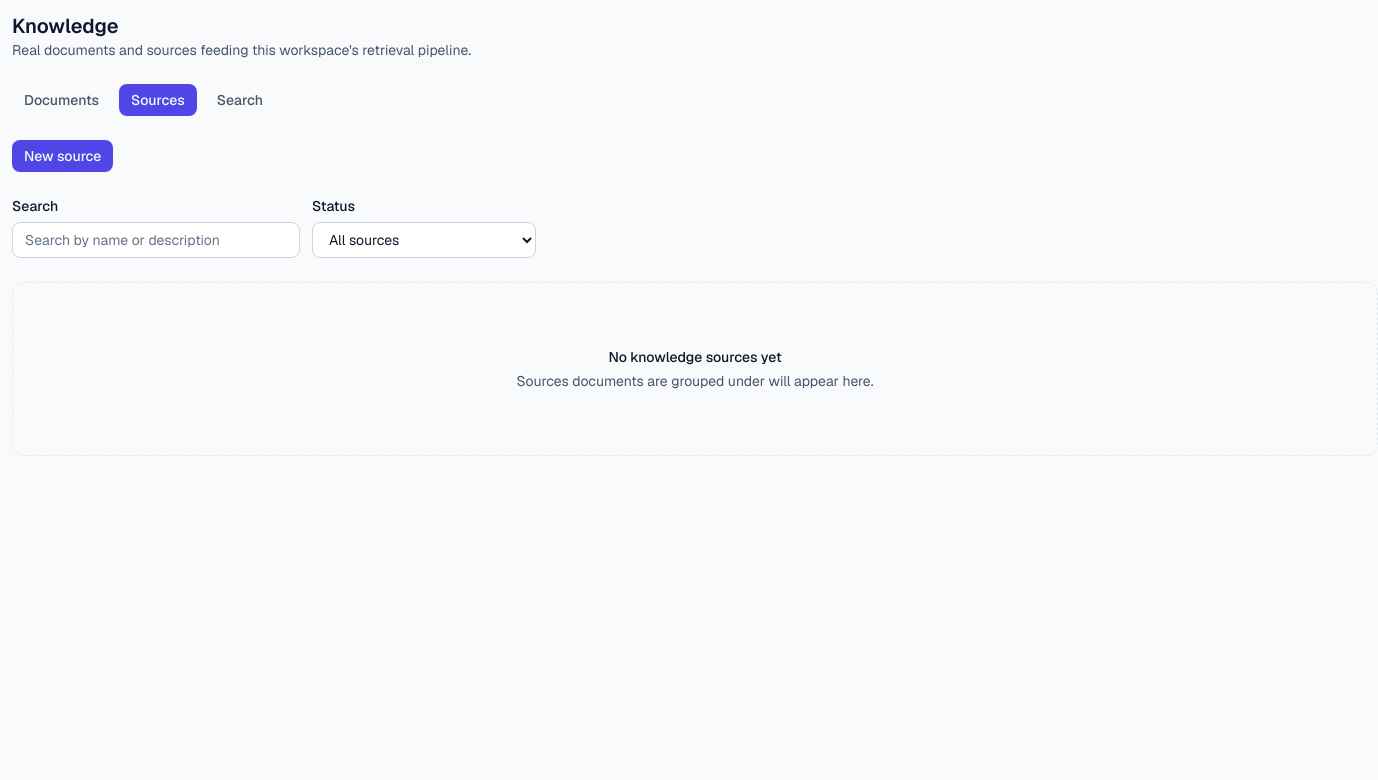
Test: KnowledgeListPage › Sources tab › creates a real source and closes the form on success
Expected: the text "No knowledge sources yet" is shown, x1=608 y1=348 x2=782 y2=366
Click the button "New source" at (63, 156), box x1=12 y1=140 x2=113 y2=172
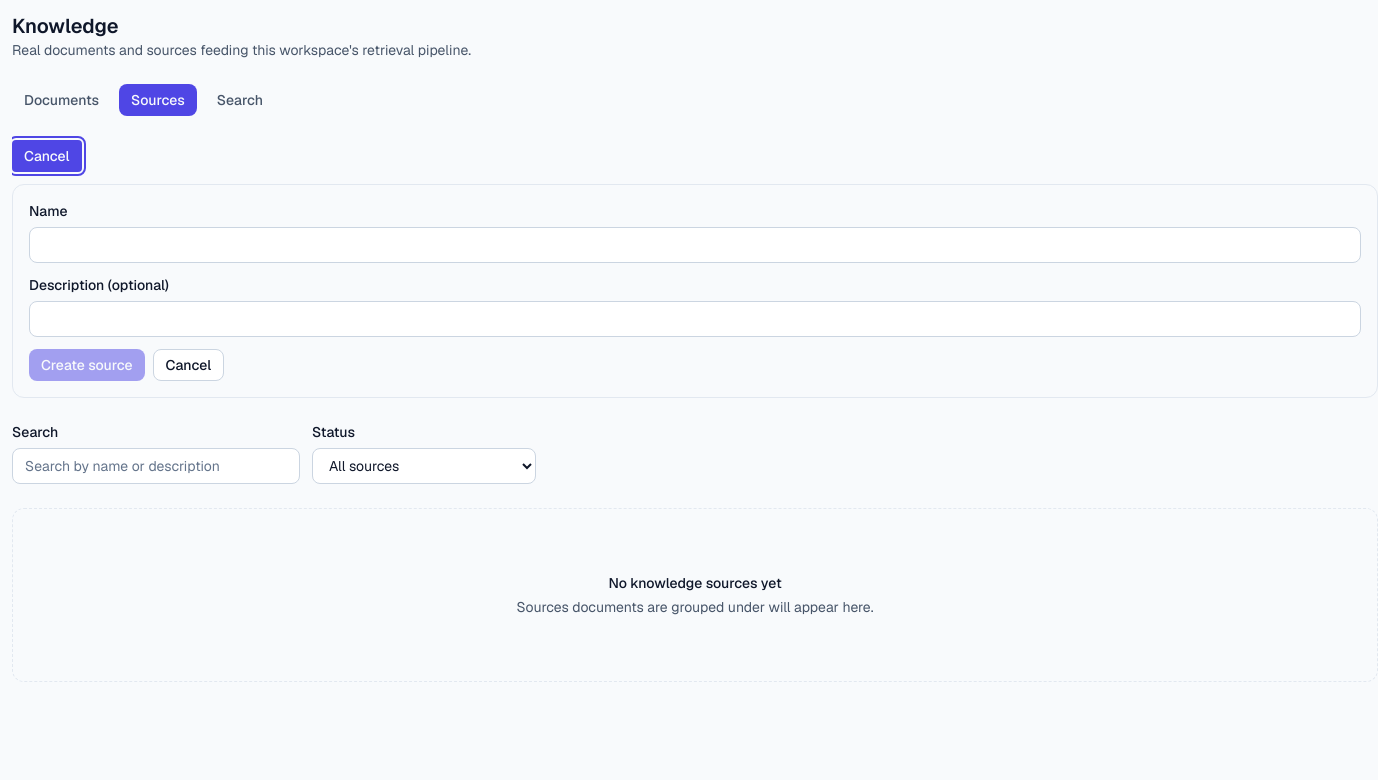
Type "Support Macros" into the field labelled "Name" at (695, 245), box x1=29 y1=227 x2=1361 y2=263
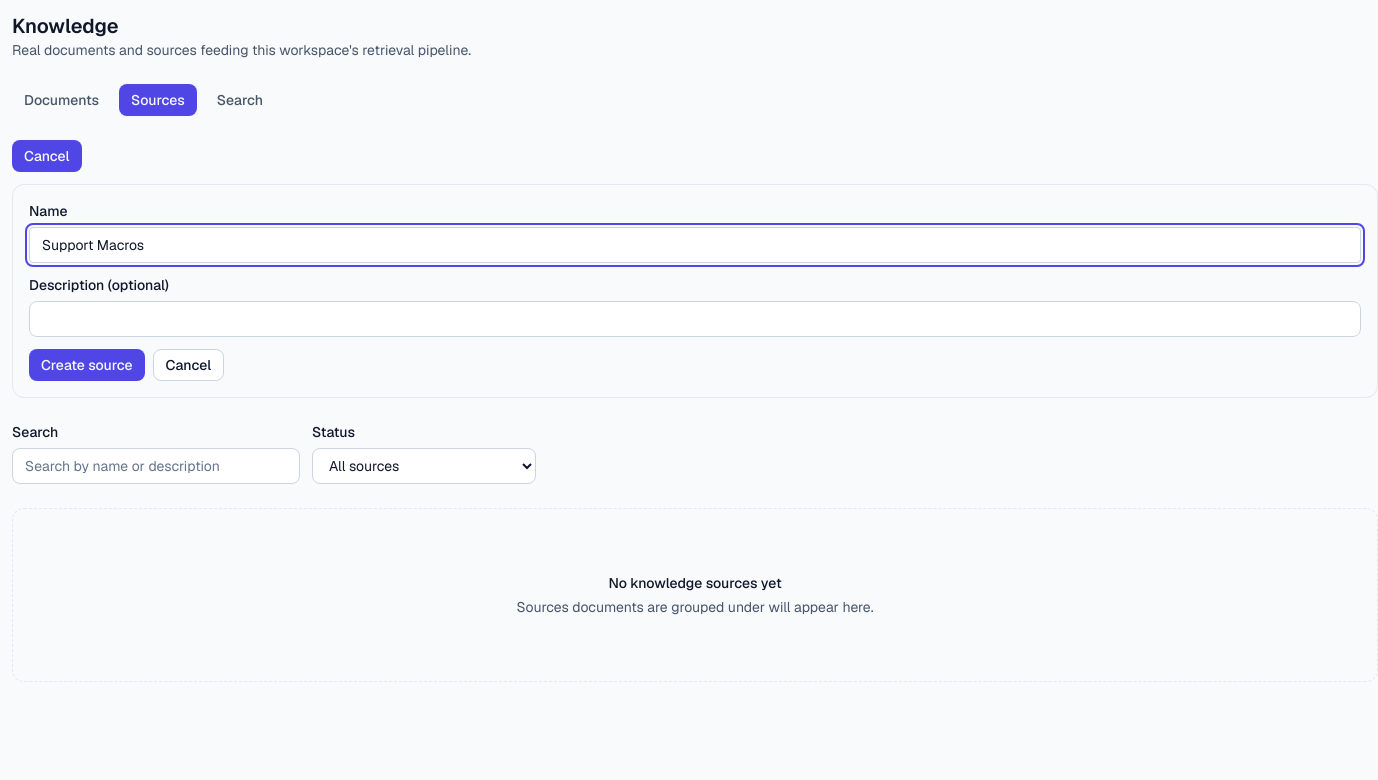
Click the button "Create source" at (87, 365), box x1=29 y1=349 x2=145 y2=381
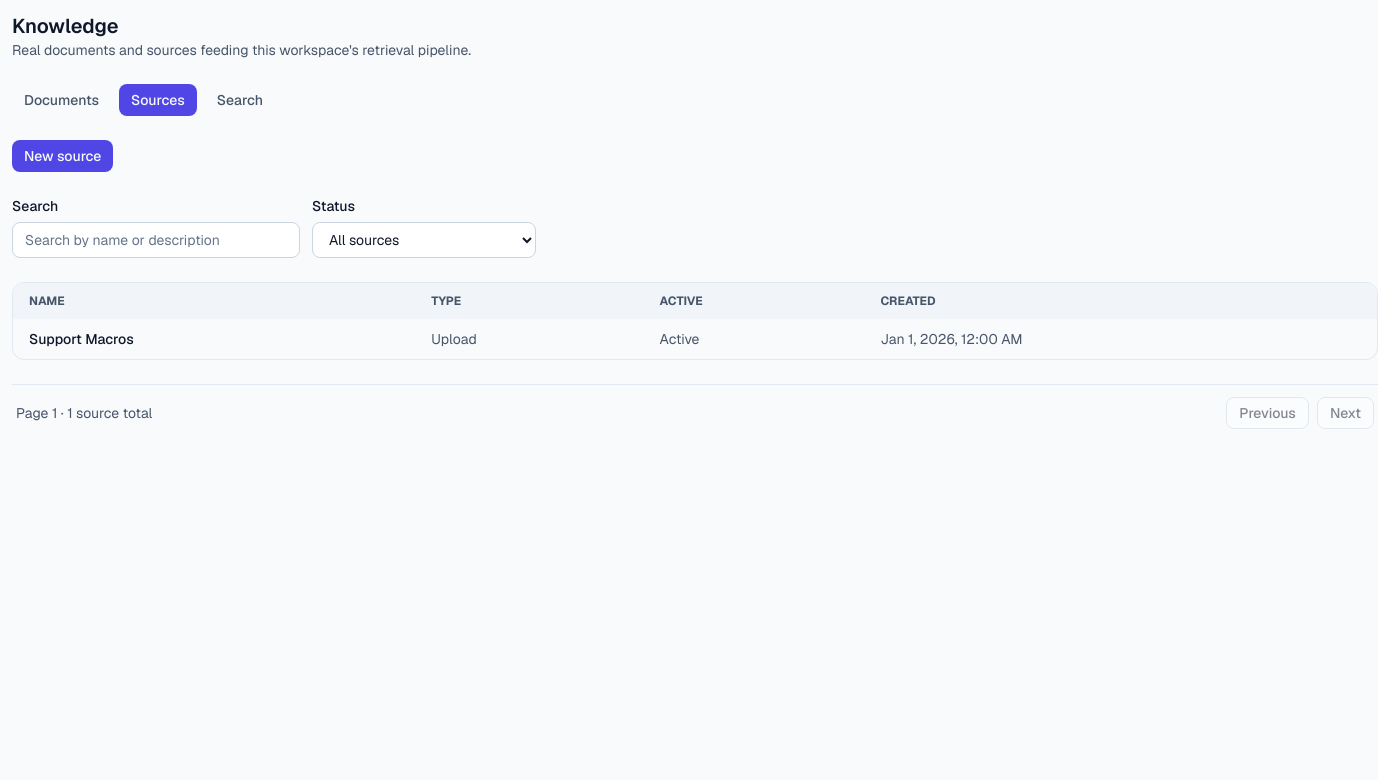
Expected: the text "Support Macros" is shown, x1=29 y1=330 x2=134 y2=348
